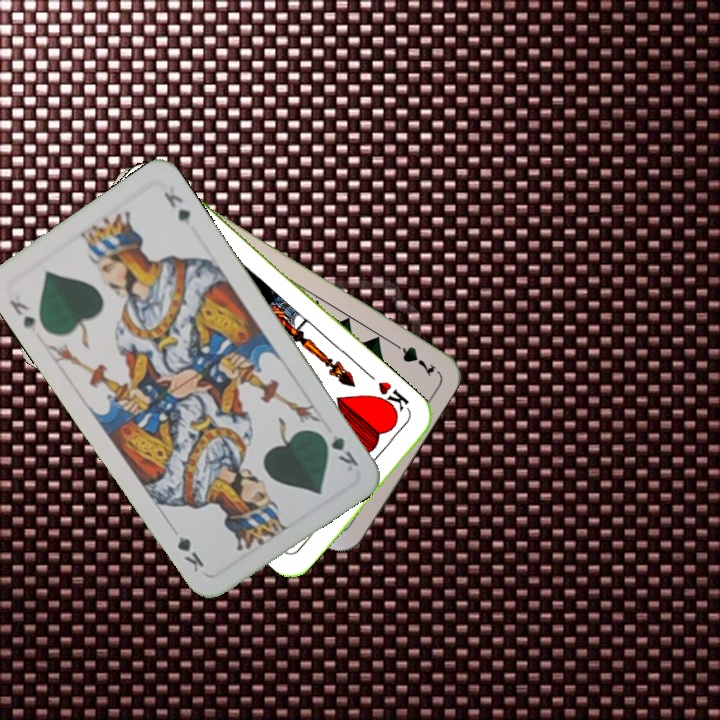G7: (385, 336, 438, 379)
GK: (315, 427, 361, 474), (4, 295, 38, 333)
HK: (370, 377, 414, 419)
